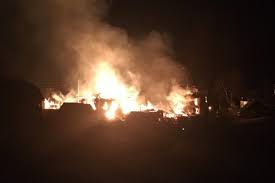fire: (44, 56, 204, 123)
